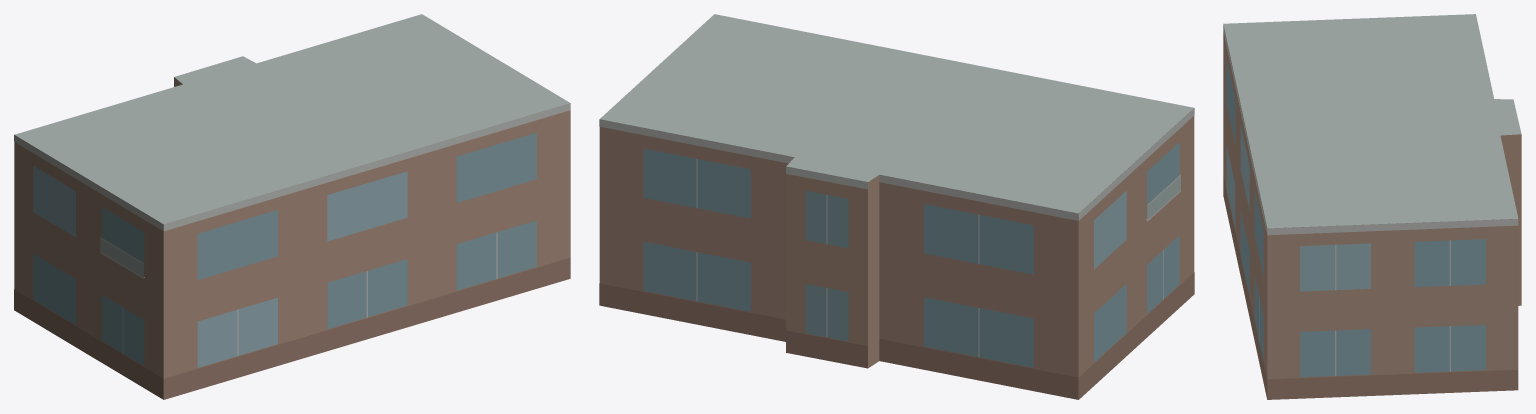
The model's file is survey-upis-32613085.glb.
3 views of the same model, side by side, from view 1: azimuth 30°, elevation 25°; view 2: azimuth 150°, elevation 25°; view 3: azimuth 270°, elevation 25° (orthographic). The views are drawn at different scales.
Parts seen in each view (by area): view 1: survey-upis-32613085.tmp; view 2: survey-upis-32613085.tmp; view 3: survey-upis-32613085.tmp.
Boxes of the visible parts, bbox=[...] form: survey-upis-32613085.tmp: bbox=[14, 14, 570, 399]; survey-upis-32613085.tmp: bbox=[599, 14, 1194, 399]; survey-upis-32613085.tmp: bbox=[1223, 14, 1521, 399].
Bounding box in the file's own units: 16.37 × 6.1 × 9.63.
